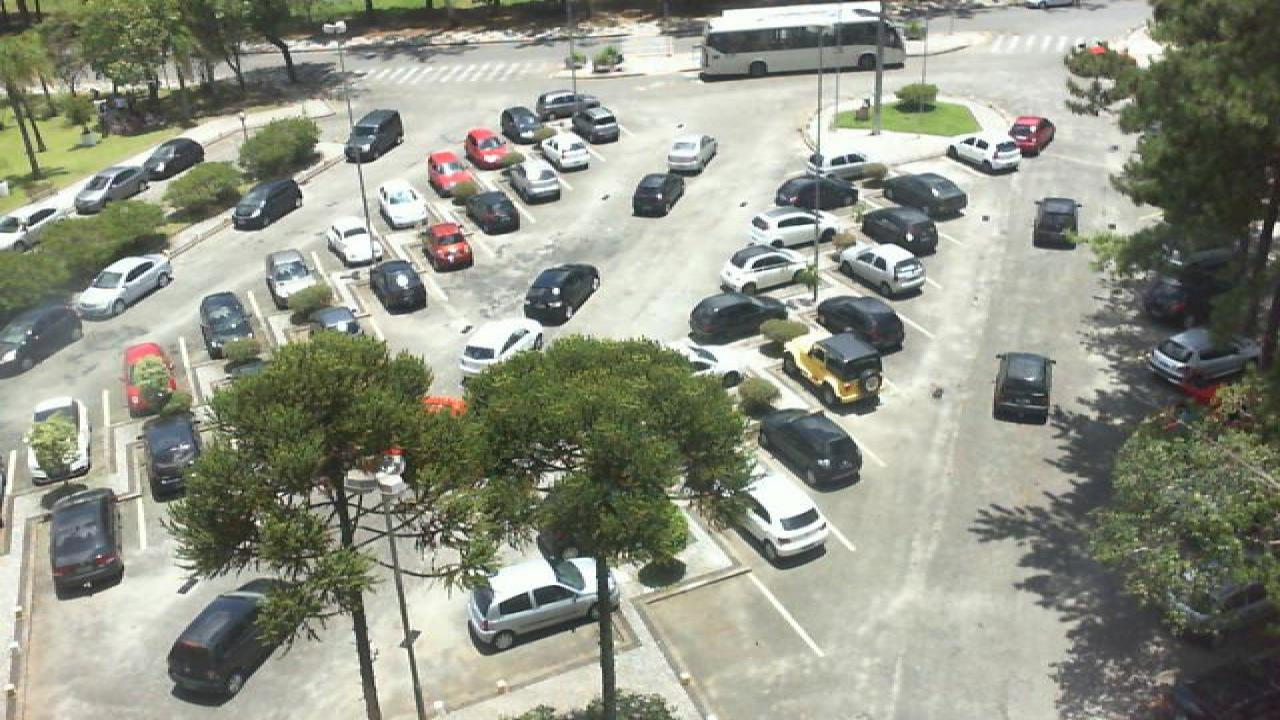Car: (166, 580, 288, 706), (464, 551, 604, 654), (720, 464, 830, 562), (44, 482, 124, 598), (758, 405, 862, 492), (780, 332, 886, 416), (72, 252, 172, 322), (1146, 326, 1254, 390), (20, 396, 90, 487), (0, 303, 84, 378), (458, 319, 546, 386), (688, 290, 788, 348), (718, 244, 828, 295), (816, 294, 906, 356), (140, 410, 200, 502), (838, 242, 930, 298), (522, 262, 602, 326), (990, 351, 1056, 426), (858, 206, 942, 261), (120, 341, 180, 418), (196, 290, 256, 367), (880, 171, 970, 219), (228, 177, 304, 233), (262, 249, 326, 315), (750, 208, 842, 252), (0, 204, 76, 252), (70, 166, 142, 215), (342, 108, 406, 163), (368, 259, 430, 315), (774, 172, 862, 210), (946, 135, 1026, 175), (136, 138, 206, 182), (110, 150, 178, 194), (310, 229, 362, 286), (426, 150, 486, 199), (422, 221, 478, 272), (462, 189, 522, 236), (376, 182, 430, 234), (630, 171, 686, 218), (810, 150, 890, 182), (1032, 196, 1080, 248), (510, 158, 564, 204), (1006, 114, 1056, 160), (464, 127, 514, 171), (666, 134, 718, 176), (536, 134, 592, 171), (570, 106, 622, 144), (498, 106, 548, 144), (534, 88, 592, 118)
